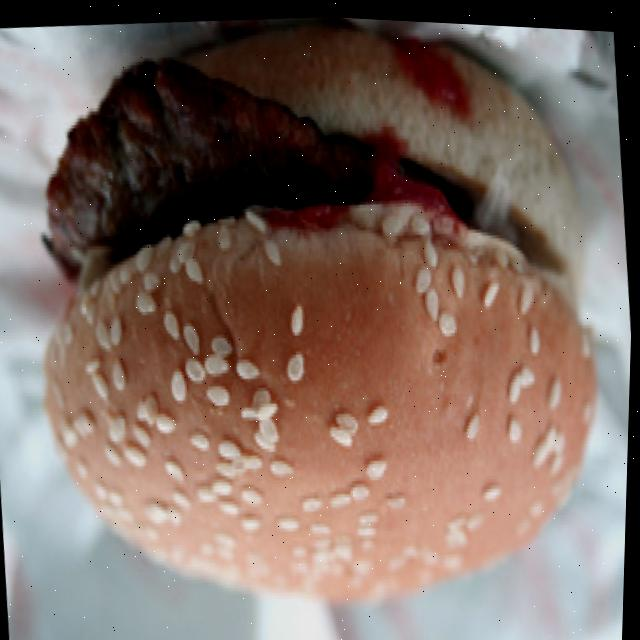汉堡快餐: (0, 0, 630, 640)
